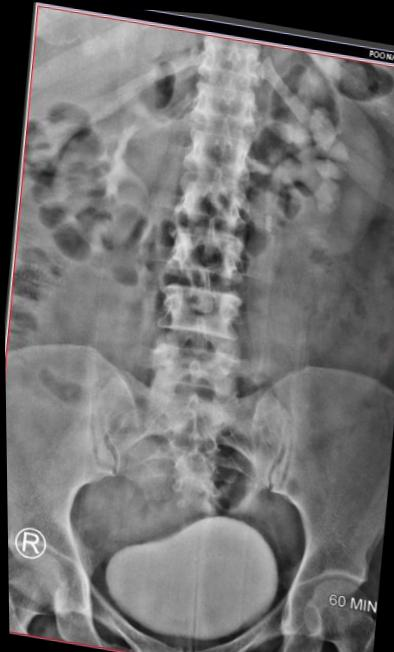bladder: (70, 493, 285, 651)
vertebrae: (173, 110, 252, 178)
